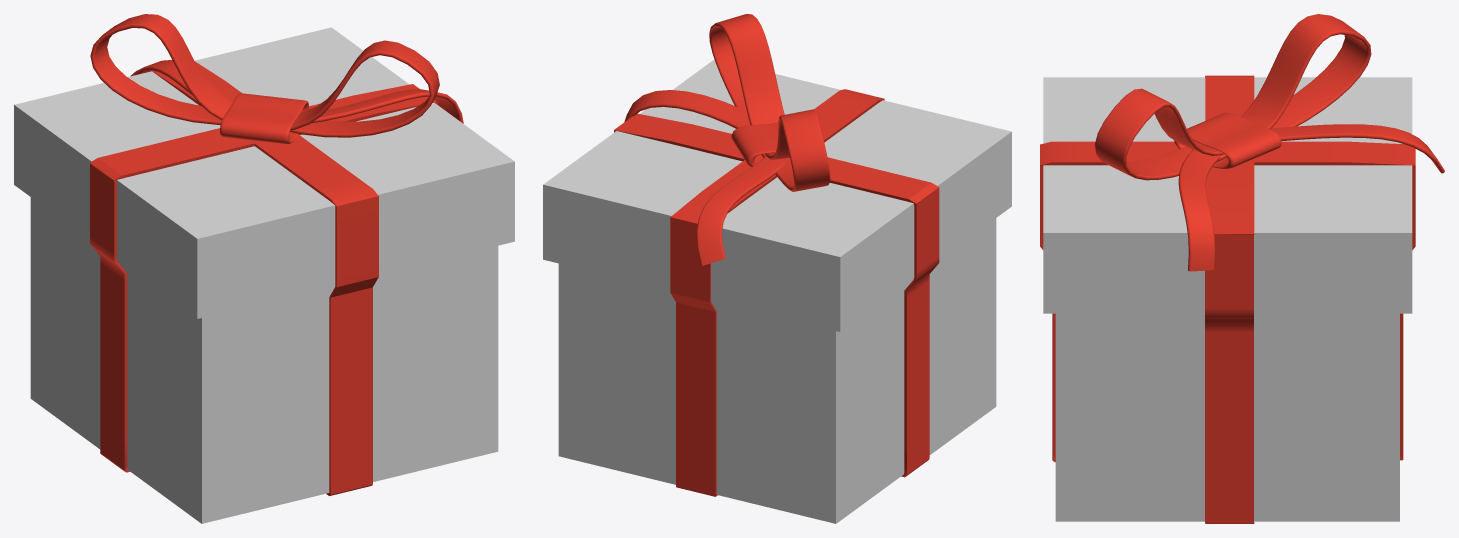
Rendered from GiftBox.glb.
3 renders of one model, left to right at view 1: azimuth 30°, elevation 25°; view 2: azimuth 150°, elevation 25°; view 3: azimuth 270°, elevation 25°, orthographic. The views are drawn at different scales.
Parts seen in each view (by area): view 1: Cube, Plane.003, BezierCurve, BezierCircle, BezierCurve.002, BezierCurve.001; view 2: Cube, Plane.003, BezierCurve, BezierCurve.001, BezierCurve.002, BezierCircle; view 3: Cube, Plane.003, BezierCurve, BezierCurve.002, BezierCircle, BezierCurve.001.
Boxes of the visible parts, bbox=[...] form: Cube: bbox=[14, 27, 514, 523]; Plane.003: bbox=[89, 61, 437, 495]; BezierCurve: bbox=[90, 14, 439, 137]; BezierCircle: bbox=[220, 93, 308, 143]; BezierCurve.002: bbox=[311, 89, 463, 123]; BezierCurve.001: bbox=[130, 60, 233, 102]; Cube: bbox=[543, 59, 1011, 523]; Plane.003: bbox=[614, 89, 939, 496]; BezierCurve: bbox=[709, 14, 830, 191]; BezierCurve.001: bbox=[696, 156, 785, 265]; BezierCurve.002: bbox=[624, 90, 750, 128]; BezierCircle: bbox=[731, 122, 778, 166]; Cube: bbox=[1043, 77, 1412, 521]; Plane.003: bbox=[1040, 75, 1415, 523]; BezierCurve: bbox=[1095, 14, 1371, 180]; BezierCurve.002: bbox=[1178, 143, 1220, 271]; BezierCircle: bbox=[1174, 112, 1281, 168]; BezierCurve.001: bbox=[1271, 124, 1444, 173].
Bounding box in the file's own units: 3.42 × 3.76 × 3.48.
